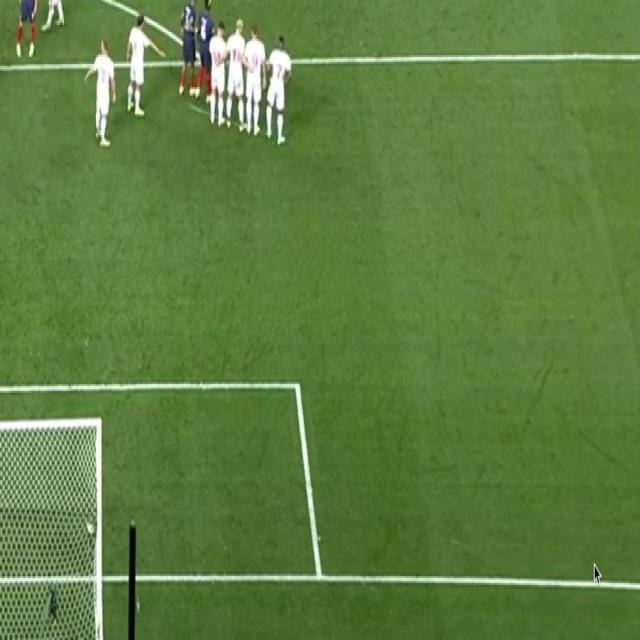player-white: (122, 9, 167, 120), (83, 34, 118, 152), (264, 31, 293, 149), (225, 16, 249, 136), (245, 22, 268, 140), (193, 0, 217, 106), (208, 20, 230, 130), (177, 0, 199, 96), (13, 0, 38, 60), (38, 0, 65, 36)
